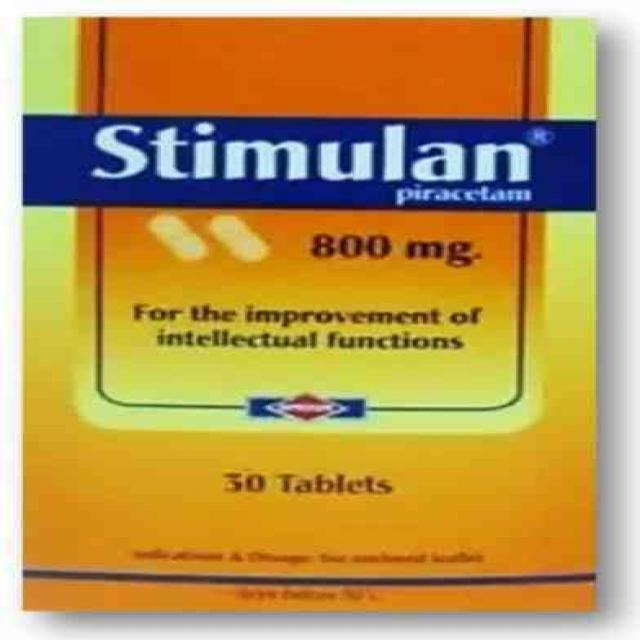drug-name: (91, 126, 536, 186)
